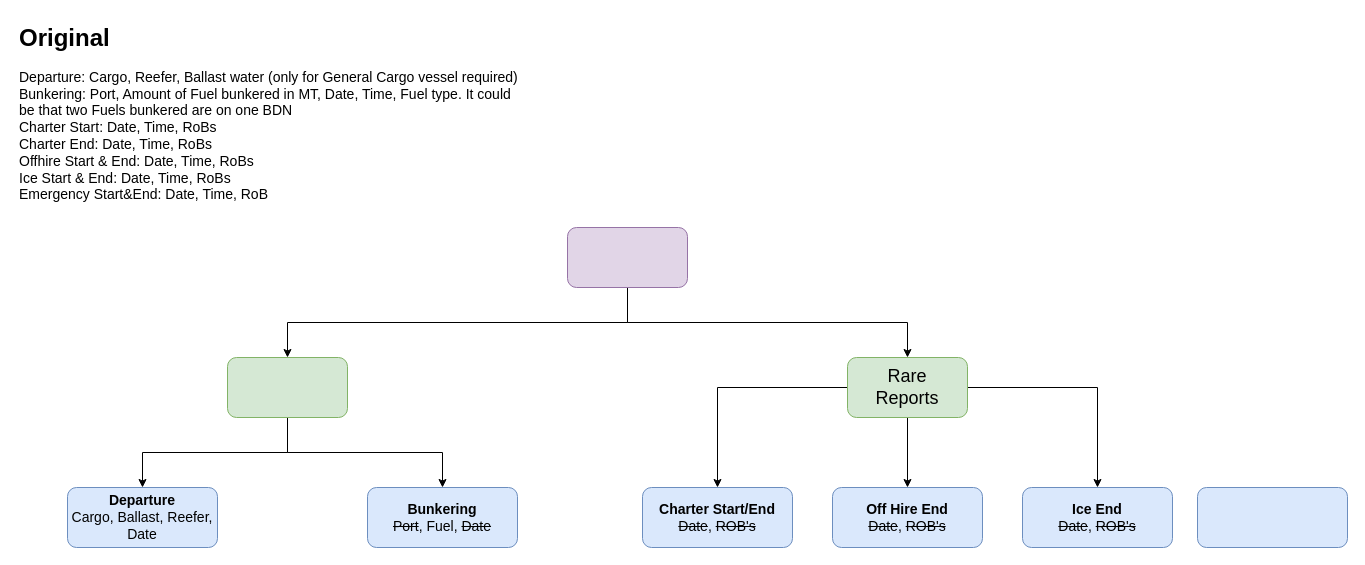
This 1365x565 diagram has some shape labels left out. Each missing label, with the box of its shape:
Common Reports: (226, 356, 348, 418)
Doc Reader Reports: (566, 226, 688, 288)
Emergency End Date , ROB's: (1196, 486, 1348, 548)
